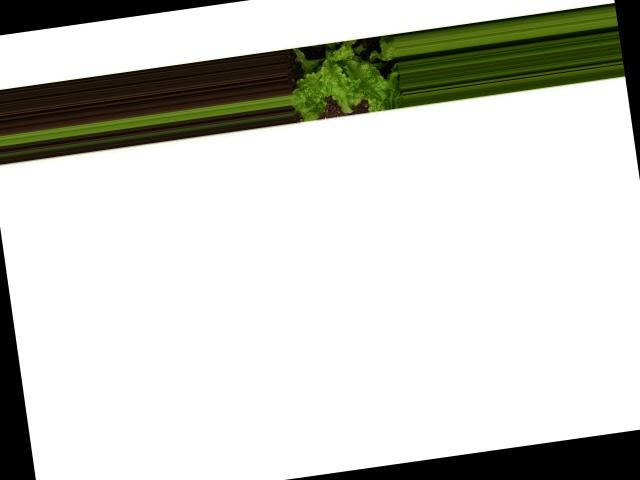lettuce: (284, 29, 404, 119)
